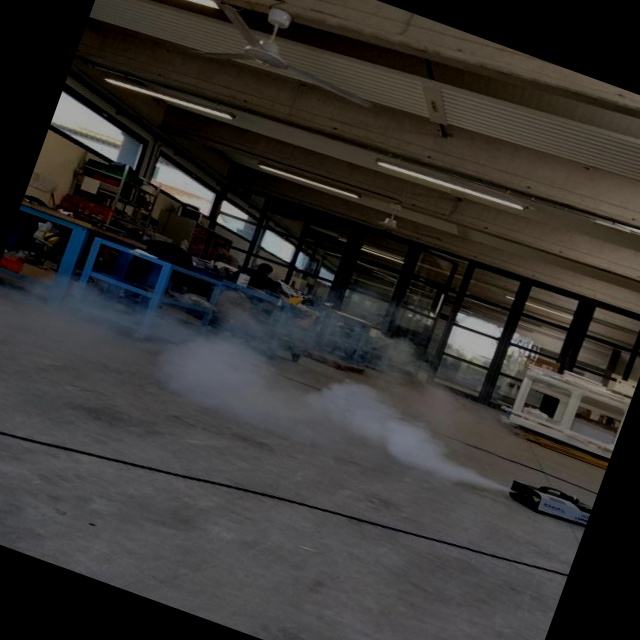smoke: (141, 292, 471, 488)
